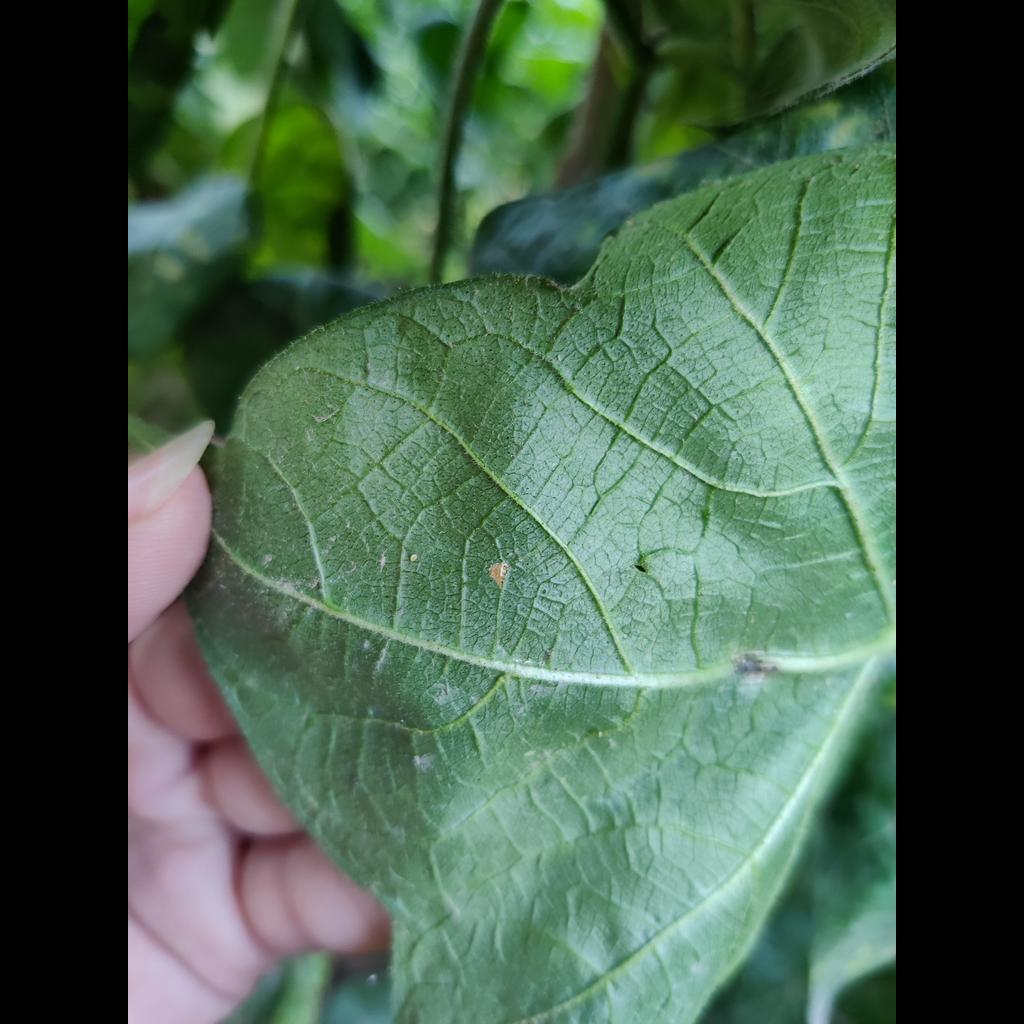nymph: (409, 553, 418, 562), (364, 640, 370, 649)
